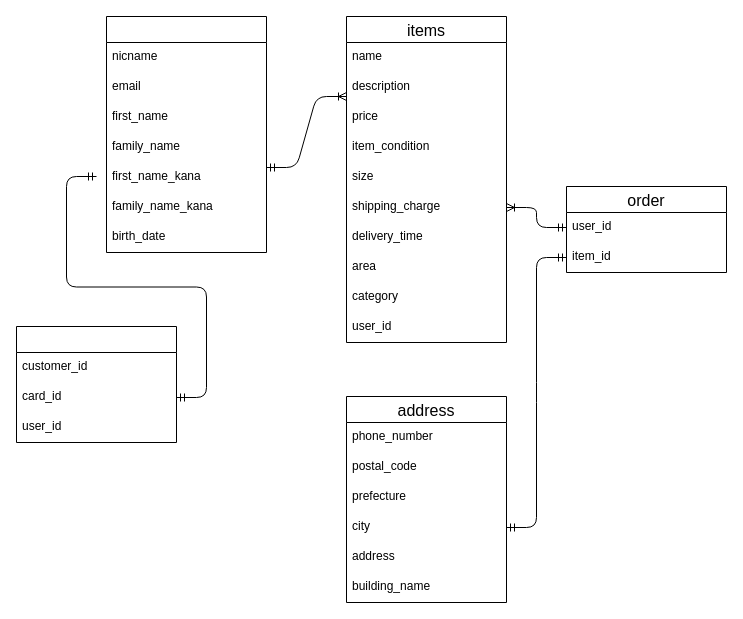
This 743x619 diagram has some shape labels left out. The box of each missing label's shape, as (x1, y1, x2, y2) in pixels:
credit_cards: (16, 326, 176, 442)
users: (106, 16, 266, 252)
